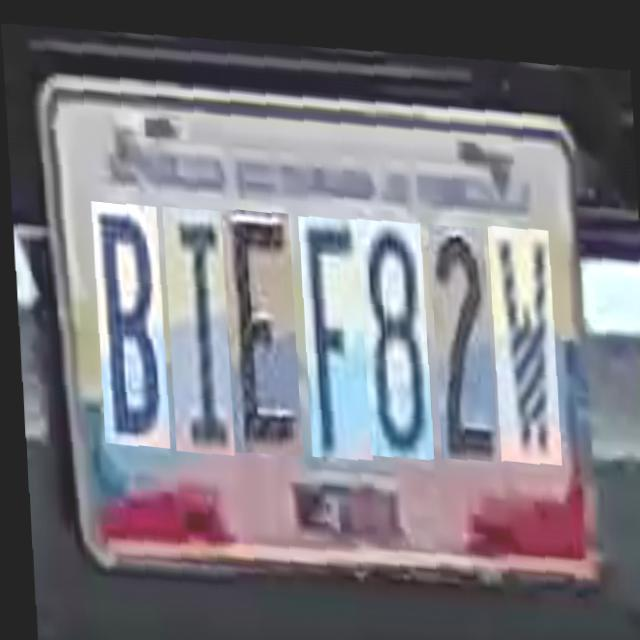2: (424, 208, 488, 446)
8: (353, 200, 425, 442)
B: (88, 180, 160, 428)
E: (218, 190, 293, 438)
F: (294, 198, 363, 442)
I: (158, 187, 225, 436)
W: (484, 210, 553, 450)
